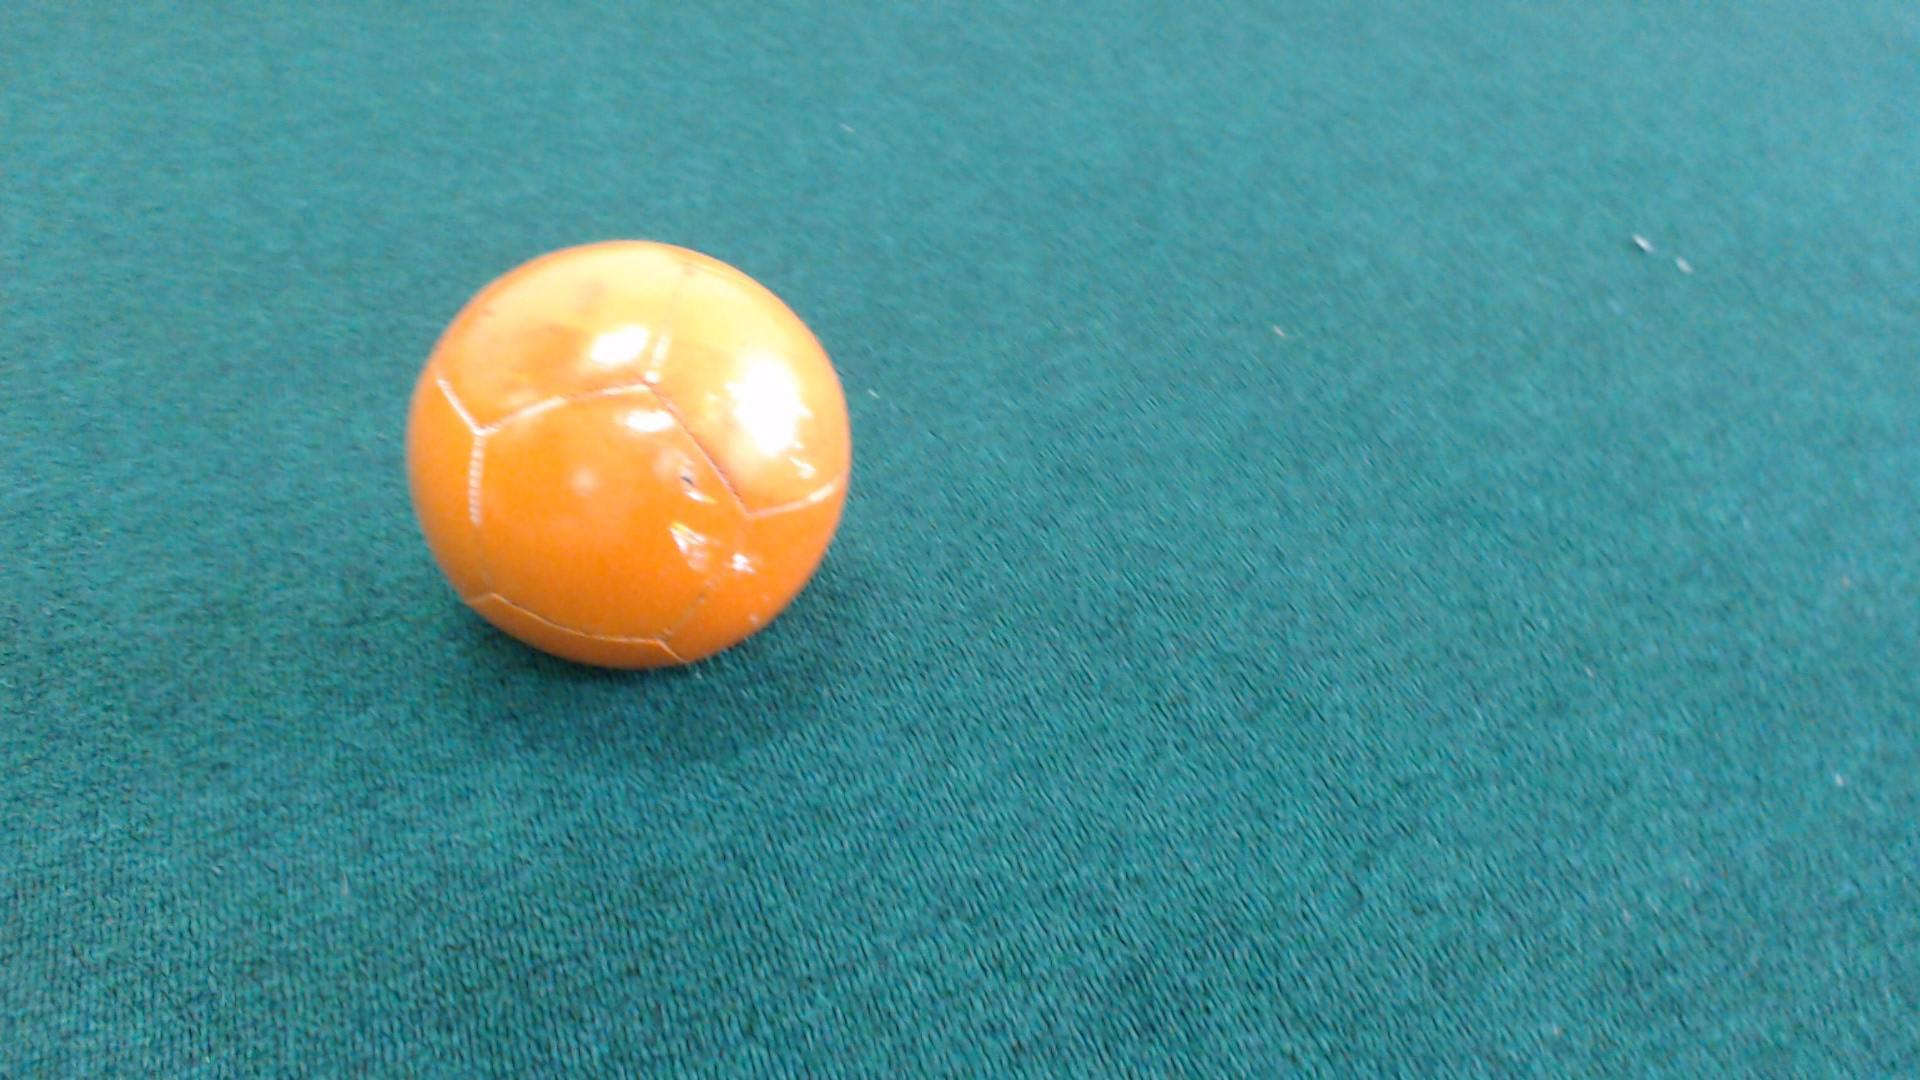bola: (401, 203, 878, 692)
